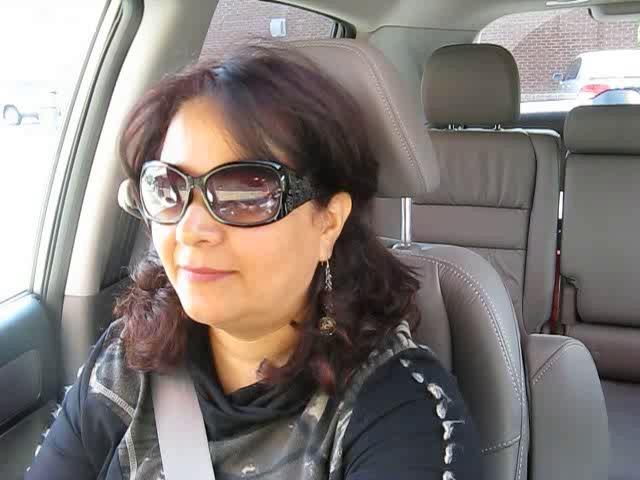no_yawn: (158, 251, 250, 296)
